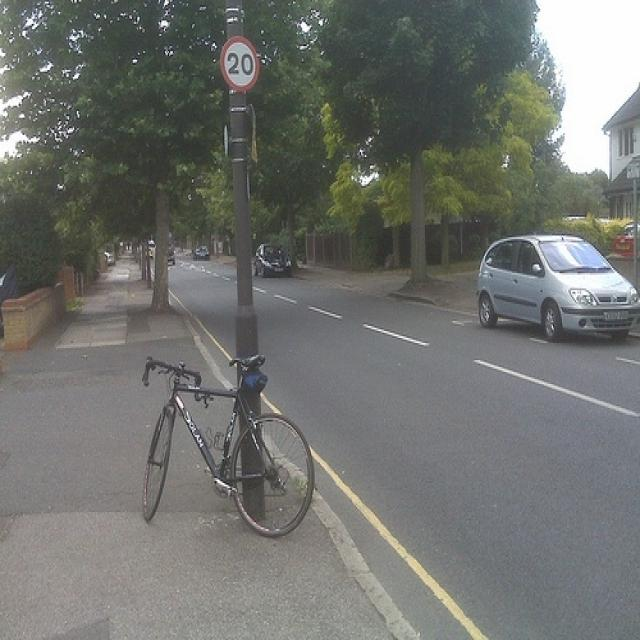forb_speed_over_20: (219, 33, 257, 87)
